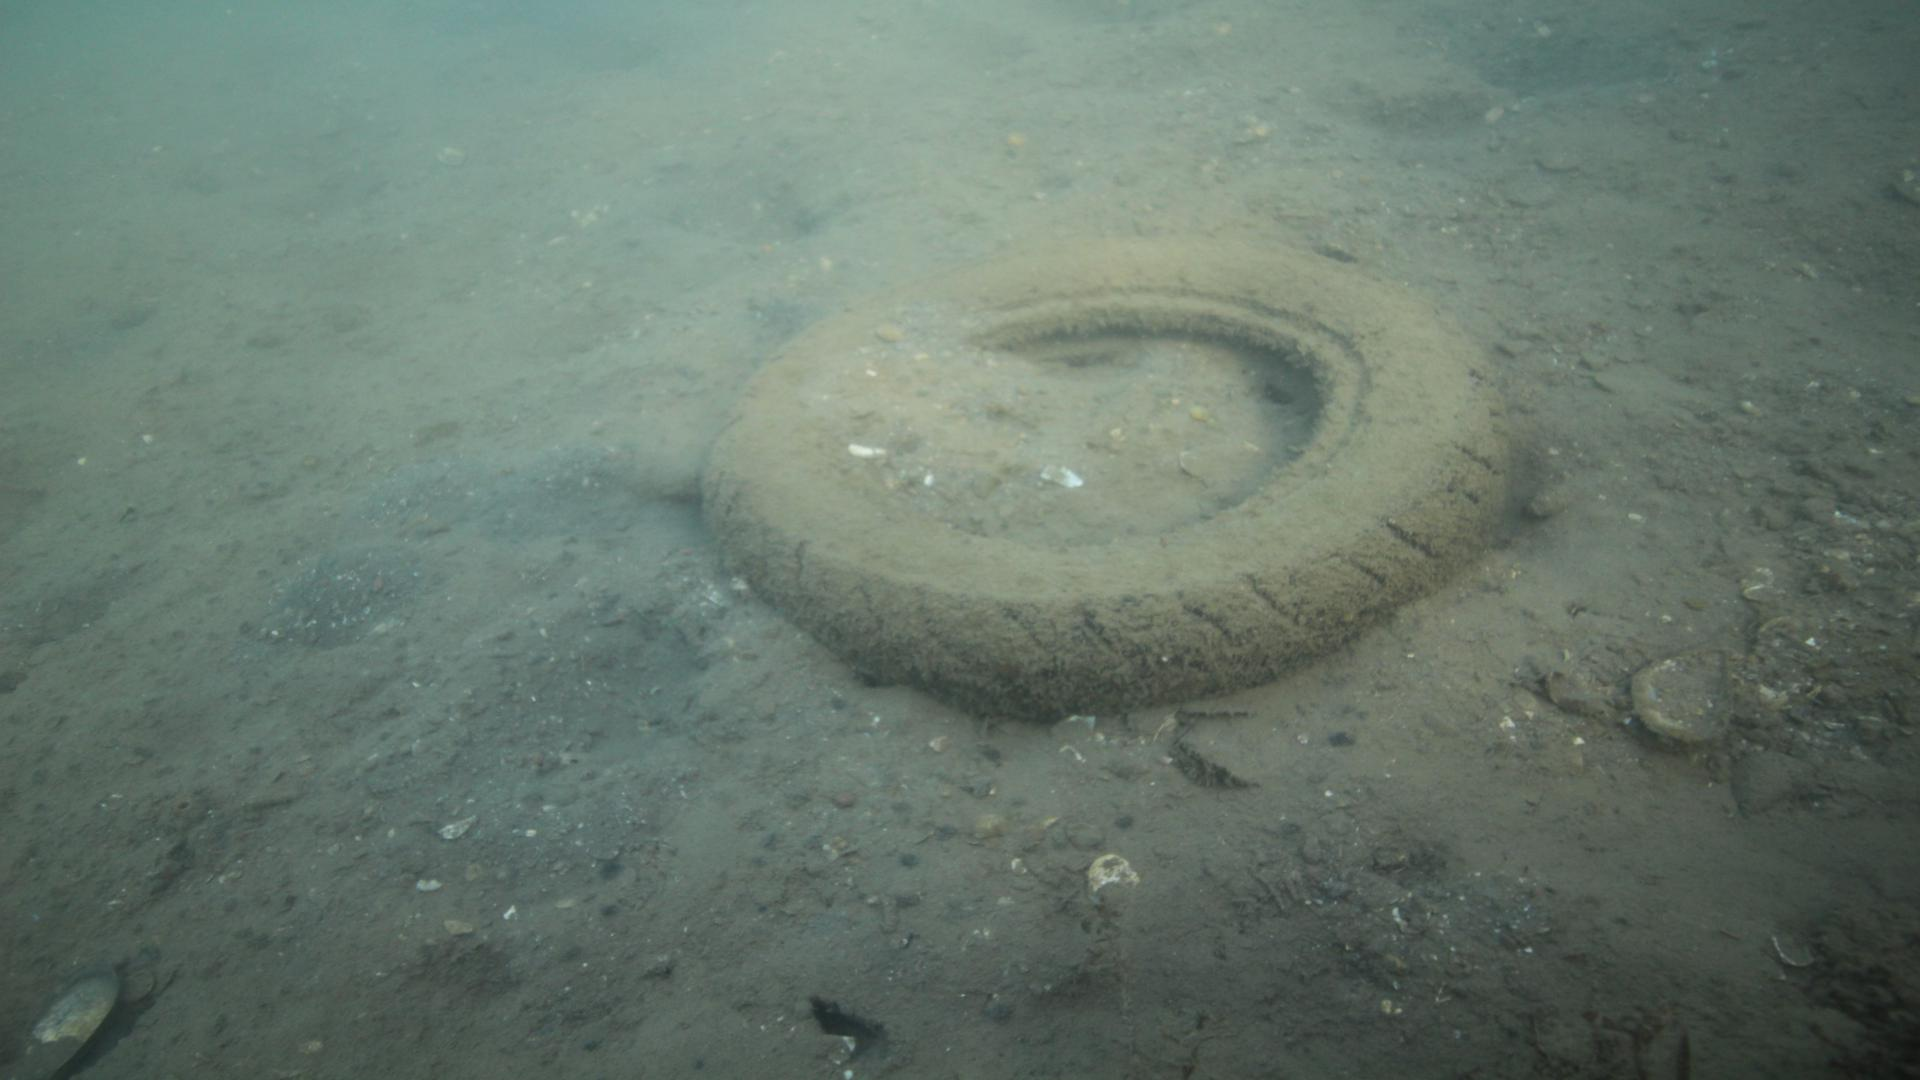tire: (699, 233, 1510, 723)
